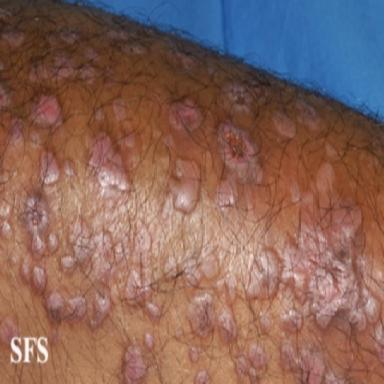Epidermolysis-Bullosa-Pruriginosa: (246, 206, 379, 329), (61, 220, 114, 282), (218, 122, 261, 183), (281, 341, 343, 383), (89, 132, 128, 190), (162, 100, 203, 155), (125, 225, 152, 300), (169, 159, 199, 213), (23, 195, 48, 255), (189, 293, 215, 337), (54, 56, 95, 83), (32, 95, 61, 126), (222, 82, 253, 111), (295, 99, 321, 133), (124, 346, 145, 384), (90, 292, 111, 329), (216, 177, 238, 211), (199, 243, 219, 280), (40, 151, 59, 184), (218, 309, 237, 341), (273, 111, 295, 138), (46, 292, 65, 321), (1, 26, 25, 48), (317, 162, 334, 193), (65, 296, 86, 320), (281, 308, 302, 332), (373, 321, 384, 364), (184, 259, 201, 286), (248, 343, 265, 369), (32, 266, 46, 293), (235, 355, 248, 382), (163, 257, 178, 280), (145, 302, 162, 322), (226, 272, 236, 303), (113, 99, 126, 121), (11, 120, 23, 142), (59, 31, 78, 44), (259, 311, 270, 333), (290, 181, 300, 203), (144, 332, 155, 351), (0, 86, 9, 109), (49, 232, 59, 252), (195, 370, 209, 384), (84, 48, 99, 61), (21, 263, 30, 282), (64, 160, 74, 177), (1, 221, 11, 238), (30, 131, 40, 147), (189, 346, 198, 363), (249, 368, 258, 384), (95, 107, 104, 122), (215, 279, 224, 291)
